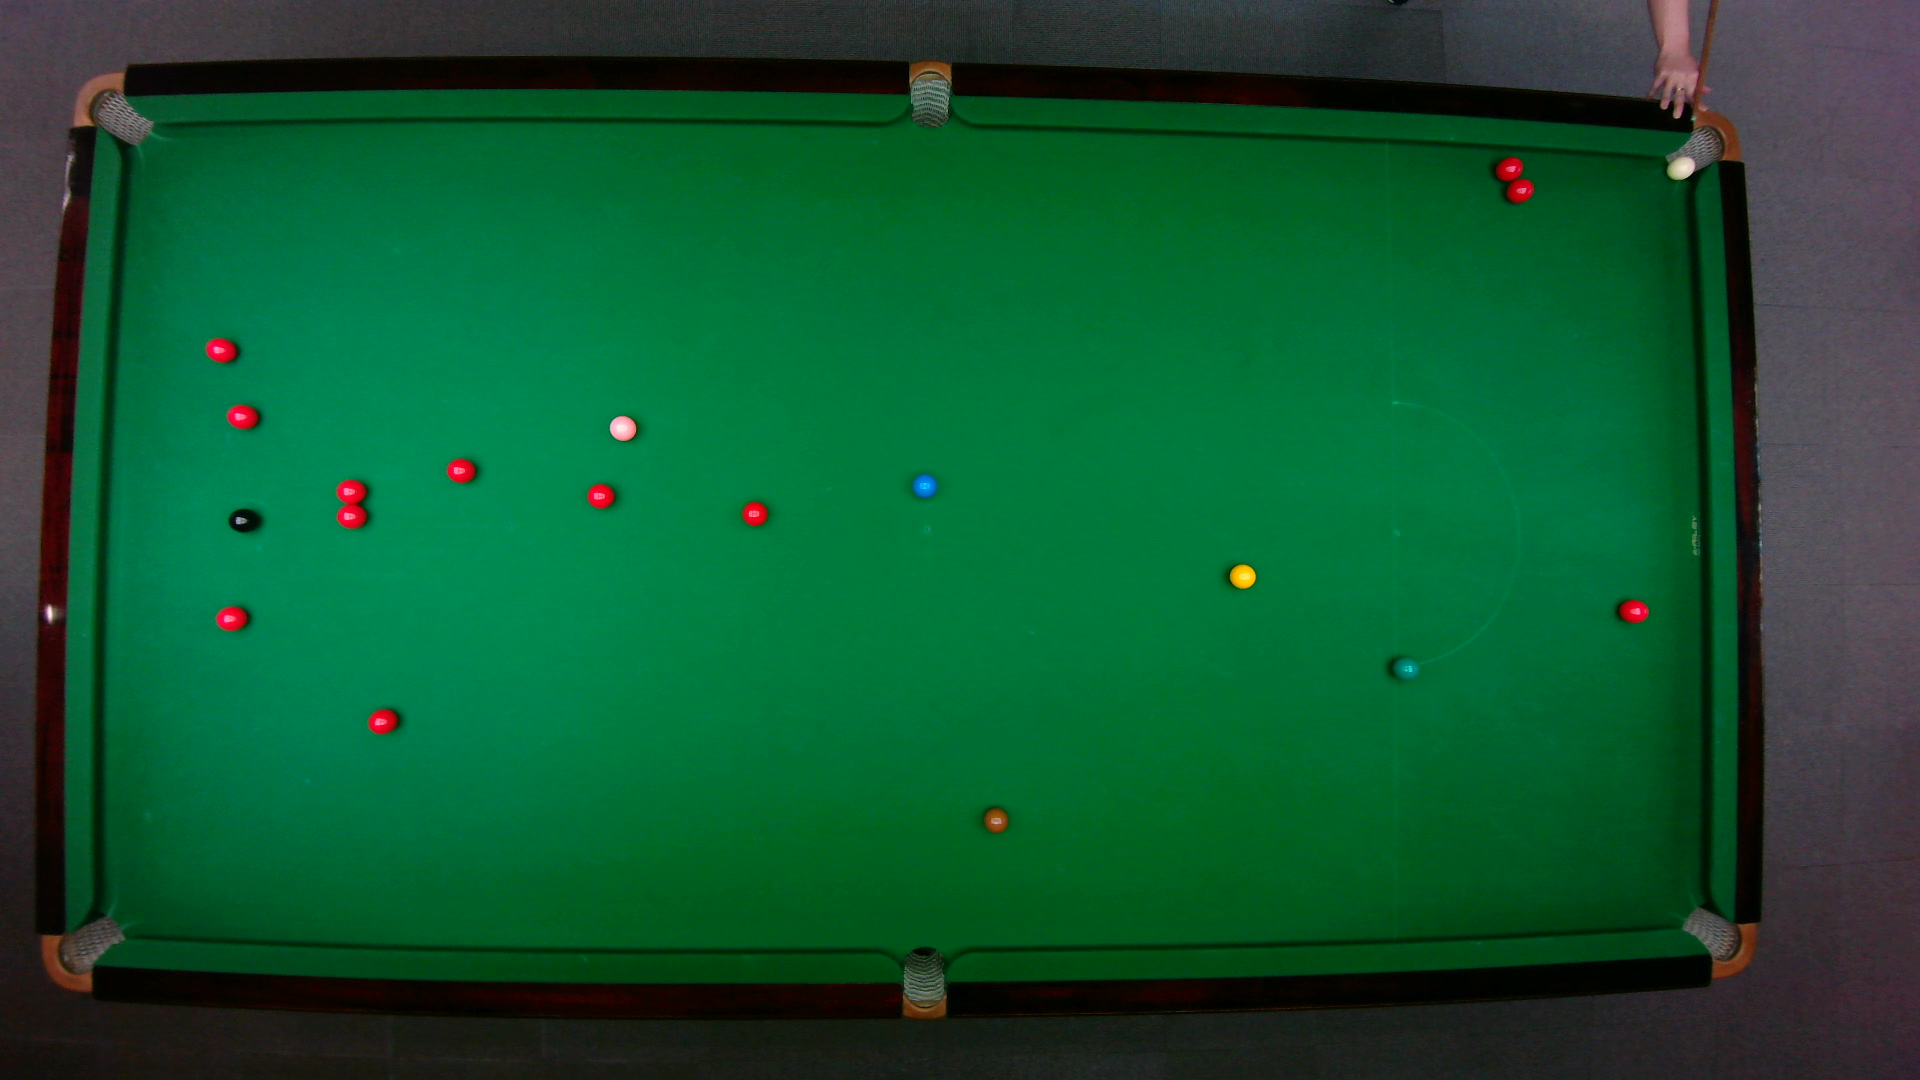bag: (38, 913, 127, 992), (70, 70, 157, 146), (1664, 108, 1743, 182), (1677, 905, 1756, 978), (901, 944, 945, 1019), (909, 59, 952, 131)
black: (225, 506, 258, 533)
blue: (910, 472, 940, 500)
brown: (981, 804, 1010, 833)
cue: (1688, 0, 1721, 123)
green: (1390, 655, 1422, 680)
pink: (607, 414, 640, 443)
red: (224, 404, 262, 433), (203, 336, 240, 365), (214, 604, 251, 633), (334, 504, 371, 531), (367, 705, 400, 736), (1617, 597, 1651, 625), (334, 477, 369, 504), (1505, 177, 1538, 204), (444, 458, 477, 485), (584, 481, 615, 510), (740, 500, 770, 527), (1494, 156, 1524, 183)
white: (1665, 156, 1697, 181)
yellow: (1228, 563, 1258, 589)
zone: (1390, 400, 1519, 666)
